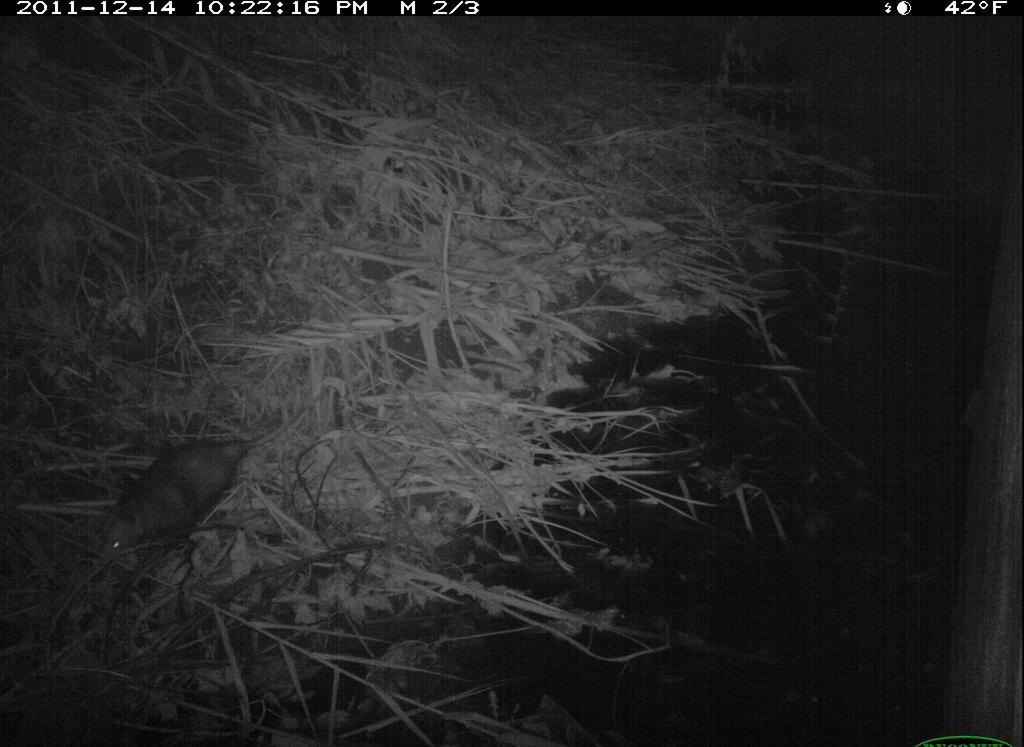opossum: (89, 420, 322, 591)
